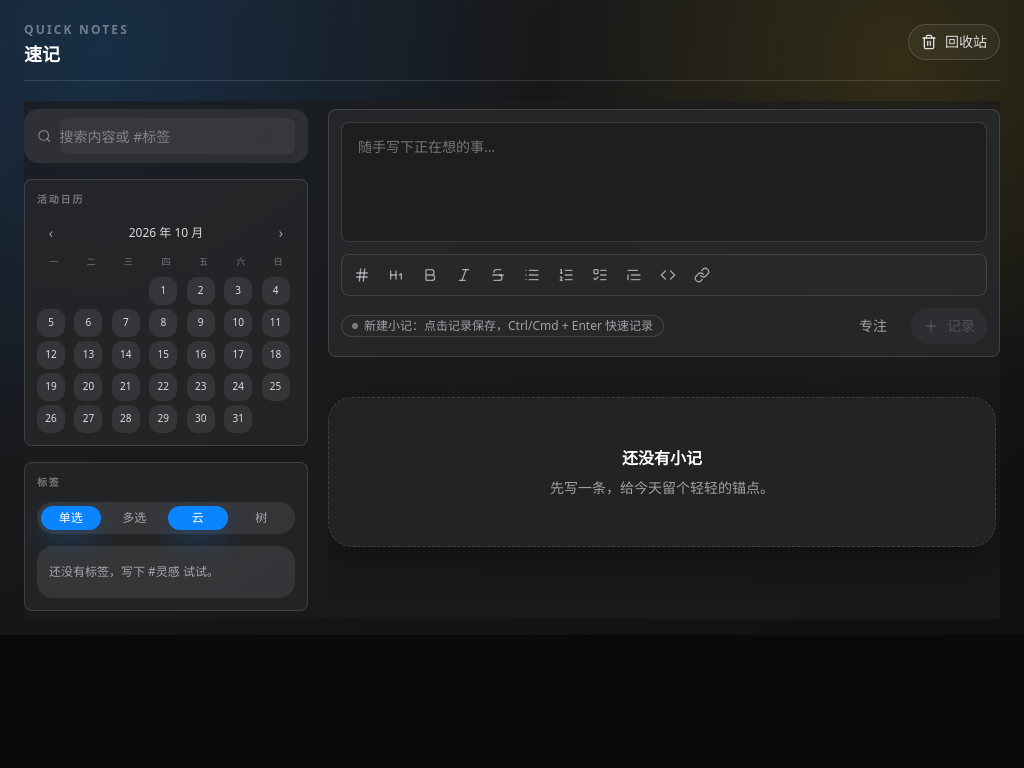
Scenario: QuickNotesView › previews extracted tags from composer input
Type "记录 #灵感 #Daily_Note #daily_note" into the text box named "小记内容" at [664, 182], box top-left (341, 122), bottom-right (987, 242)
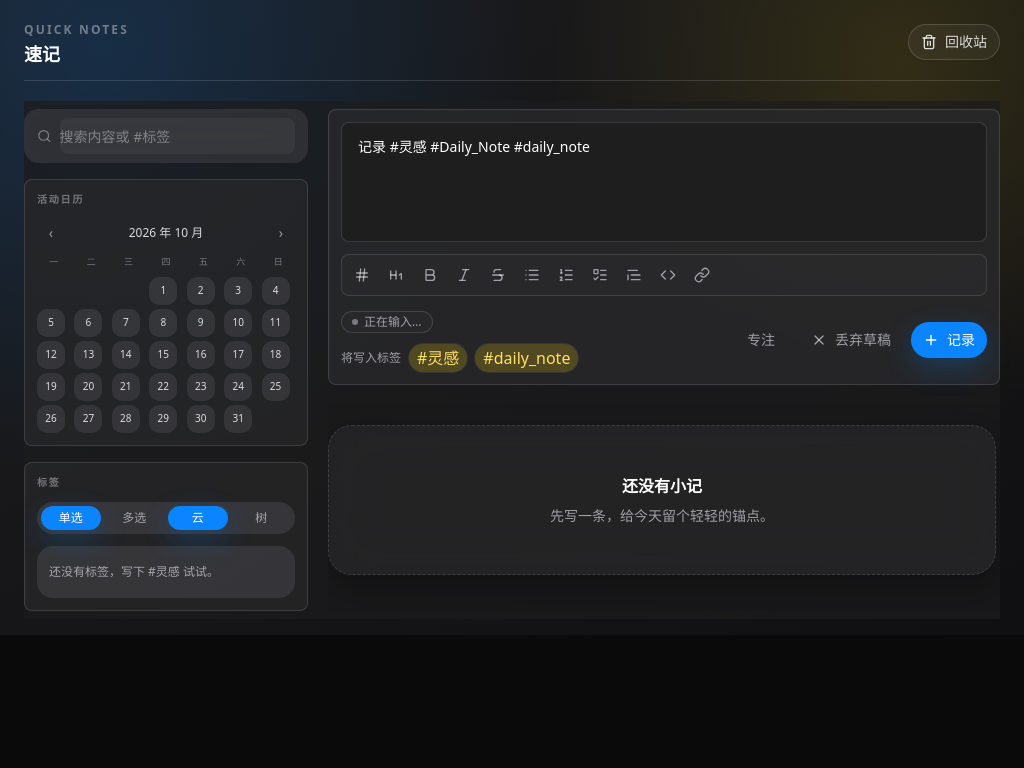
Expected: the text "#daily_note" is shown once, top-left (475, 344), bottom-right (578, 372)
